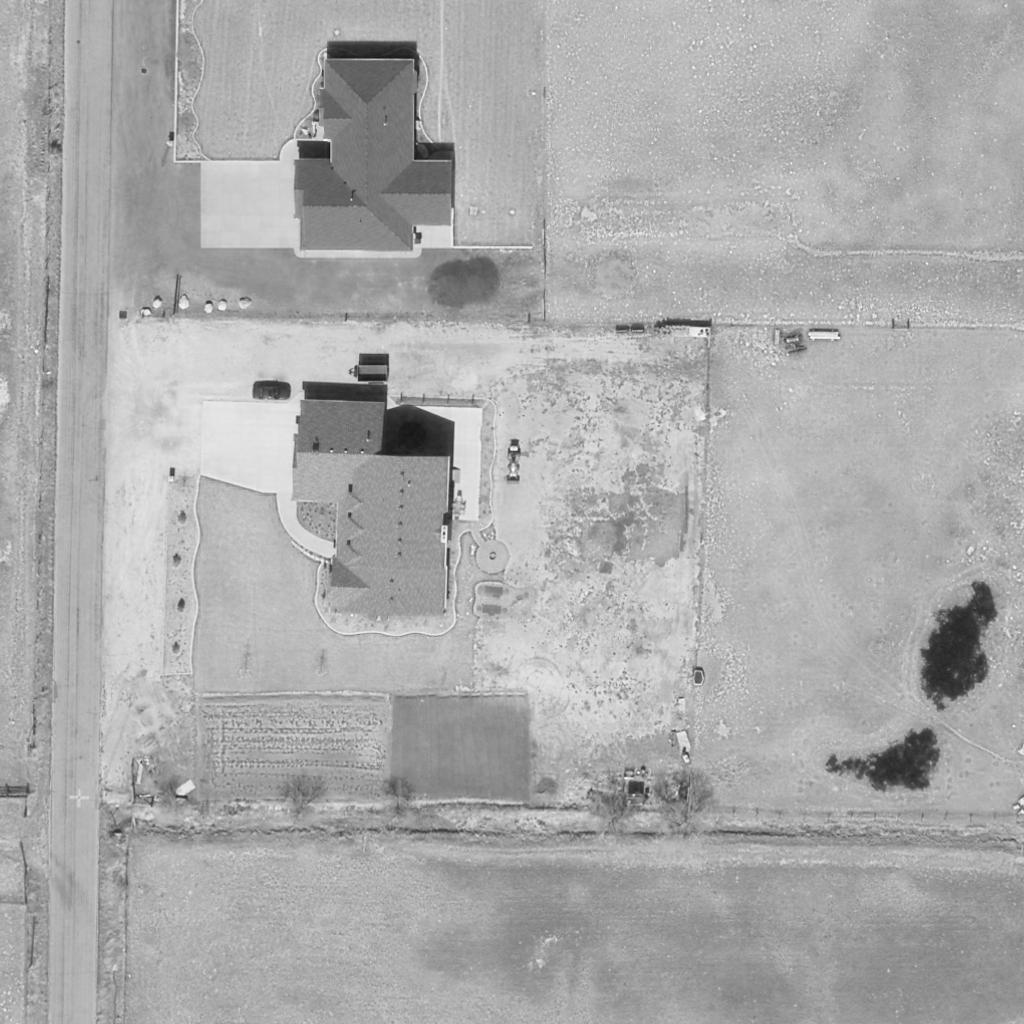vehicle: (504, 443, 524, 485), (249, 384, 291, 402)
